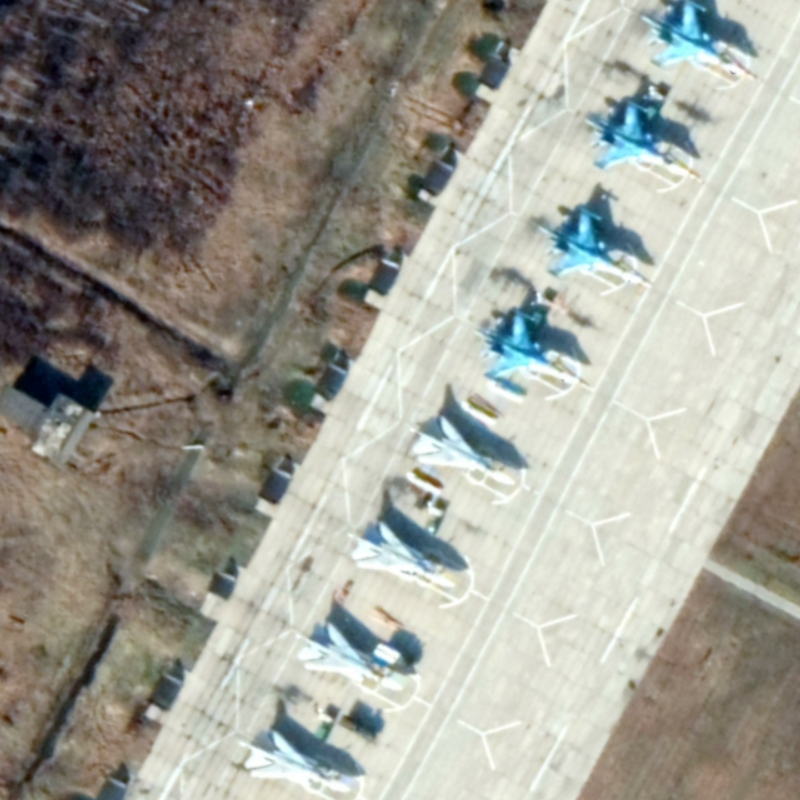A19: (536, 205, 649, 286), (473, 306, 584, 387), (582, 97, 693, 177), (640, 1, 751, 78)
A20: (408, 414, 520, 488), (295, 620, 408, 693), (348, 519, 460, 591), (242, 728, 355, 795)
